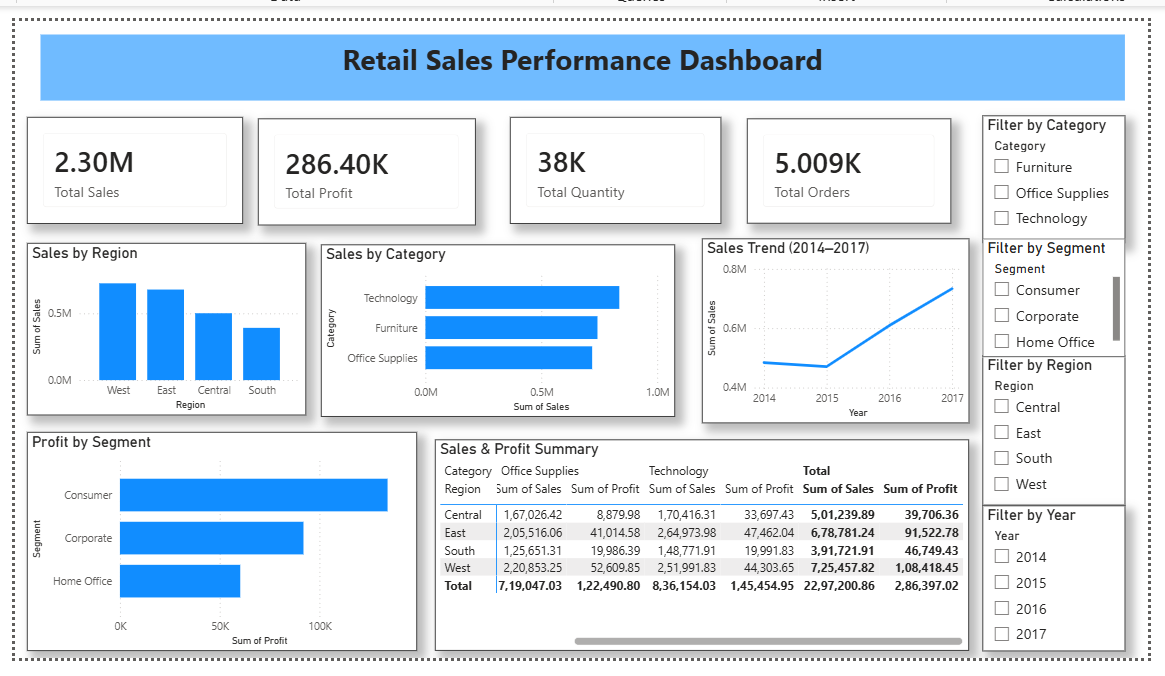

The dashboard page shown, as its layout file describes it:
{"tool":"powerbi","page":{"name":"Page 1","canvas":[1280,720],"ordinal":0},"visuals":[{"type":"cardVisual","fields":{"Data":["Sum(Sample - Superstore.Sales)"]},"box":[13.6,108.5,244.1,120.3],"z":0},{"type":"cardVisual","fields":{"Data":["Sum(Sample - Superstore.Profit)"]},"box":[274.6,110.2,245.8,120.3],"z":1},{"type":"cardVisual","fields":{"Data":["Sum(Sample - Superstore.Quantity)"]},"box":[559.3,108.5,239,120.3],"z":2},{"type":"cardVisual","fields":{"Data":["Count(Sample - Superstore.Order ID)"]},"box":[827.1,110.2,230.5,118.6],"z":3},{"type":"clusteredColumnChart","title":"Sales by Region","fields":{"Category":["Sample - Superstore.Region"],"Y":["Sum(Sample - Superstore.Sales)"]},"box":[13.6,250.8,315.3,194.9],"z":4},{"type":"clusteredBarChart","title":" Sales by Category","fields":{"Category":["Sample - Superstore.Category"],"Y":["Sum(Sample - Superstore.Sales)"]},"box":[345.8,252.5,400,194.9],"z":5},{"type":"lineChart","title":"Sales Trend (2014–2017)","fields":{"Category":["Sample - Superstore.Order Date.Variation.Date Hierarchy.Year"],"Y":["Sum(Sample - Superstore.Sales)"]},"box":[776.3,245.8,301.7,208.5],"z":6},{"type":"clusteredBarChart","title":" Profit by Segment","fields":{"Category":["Sample - Superstore.Segment"],"Y":["Sum(Sample - Superstore.Profit)"]},"box":[13.6,464.4,440.7,247.5],"z":7},{"type":"pivotTable","title":"Sales & Profit Summary","fields":{"Rows":["Sample - Superstore.Region"],"Columns":["Sample - Superstore.Category"],"Values":["Sum(Sample - Superstore.Sales)","Sum(Sample - Superstore.Profit)"]},"box":[474.6,472.9,603.4,239],"z":8},{"type":"slicer","title":"Filter by Region","fields":{"Values":["Sample - Superstore.Region"]},"box":[1093.2,378,161,169.5],"z":9},{"type":"slicer","title":"Filter by Category","fields":{"Values":["Sample - Superstore.Category"]},"box":[1093.2,106.8,161,144.1],"z":10},{"type":"slicer","title":"Filter by Segment","fields":{"Values":["Sample - Superstore.Segment"]},"box":[1093.2,245.8,161,133.9],"z":11},{"type":"slicer","title":"Filter by Year","fields":{"Values":["Sample - Superstore.Order Date.Variation.Date Hierarchy.Year"]},"box":[1093.2,547.5,161,164.4],"z":12},{"type":"textbox","box":[28.8,15.3,1225.4,74.6],"z":13}]}

Visuals, with their boxes in screenshot pixels (x1, y1, x2, y2):
cardVisual - Sum(Sample - Superstore.Sales): {"x1": 9, "y1": 113, "x2": 228, "y2": 221}
cardVisual - Sum(Sample - Superstore.Profit): {"x1": 243, "y1": 114, "x2": 464, "y2": 222}
cardVisual - Sum(Sample - Superstore.Quantity): {"x1": 499, "y1": 113, "x2": 714, "y2": 221}
cardVisual - Count(Sample - Superstore.Order ID): {"x1": 739, "y1": 114, "x2": 946, "y2": 221}
"Sales by Region" clusteredColumnChart: {"x1": 9, "y1": 240, "x2": 292, "y2": 415}
" Sales by Category" clusteredBarChart: {"x1": 307, "y1": 242, "x2": 666, "y2": 417}
"Sales Trend (2014–2017)" lineChart: {"x1": 694, "y1": 236, "x2": 965, "y2": 423}
" Profit by Segment" clusteredBarChart: {"x1": 9, "y1": 432, "x2": 405, "y2": 654}
"Sales & Profit Summary" pivotTable: {"x1": 423, "y1": 440, "x2": 965, "y2": 654}
"Filter by Region" slicer: {"x1": 978, "y1": 354, "x2": 1123, "y2": 507}
"Filter by Category" slicer: {"x1": 978, "y1": 111, "x2": 1123, "y2": 240}
"Filter by Segment" slicer: {"x1": 978, "y1": 236, "x2": 1123, "y2": 356}
"Filter by Year" slicer: {"x1": 978, "y1": 507, "x2": 1123, "y2": 654}
textbox: {"x1": 23, "y1": 29, "x2": 1123, "y2": 96}
